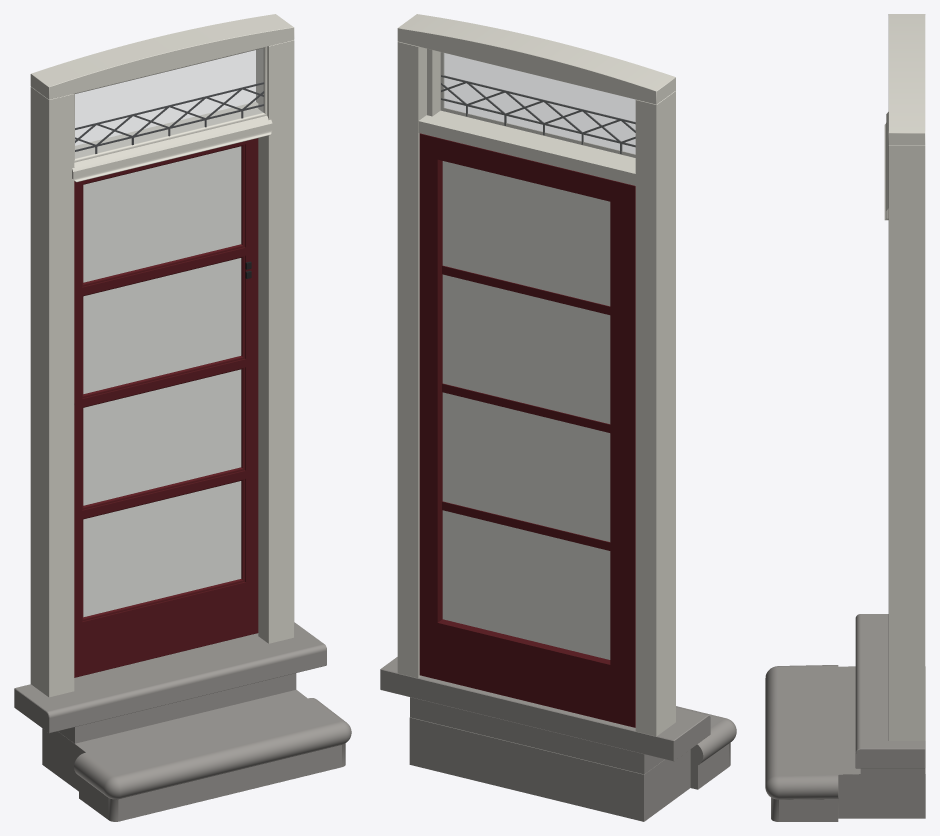
Rendered from door_T2.glb.
3 renders of one model, left to right at view 1: azimuth 30°, elevation 25°; view 2: azimuth 150°, elevation 25°; view 3: azimuth 270°, elevation 25°, orthographic. The views are drawn at different scales.
Visible parts, largest first — view 1: frame_jamb_L, leaf_frame, stone_tread, frame_jamb_R, net_light4, net_light2, net_light3, net_light1, glass_light4, glass_light2, glass_light1, glass_light3 (+11 smaller); view 2: leaf_frame, frame_jamb_L, net_light2, net_light1, net_light3, net_light4, frame_jamb_R, stone_tread, glass_fanlight, frame_head, stone_threshold, frame_transom (+3 smaller); view 3: frame_jamb_R, stone_tread, stone_threshold, frame_head, frame_transom, stone_riser.
Boxes of the visible parts, x1,y1,x2,y2 form: frame_jamb_L: [30, 87, 74, 697]; leaf_frame: [74, 138, 258, 677]; stone_tread: [42, 689, 351, 821]; frame_jamb_R: [256, 40, 294, 643]; net_light4: [83, 146, 241, 282]; net_light2: [83, 369, 241, 505]; net_light3: [83, 258, 241, 393]; net_light1: [83, 481, 241, 616]; glass_light4: [83, 146, 240, 282]; glass_light2: [83, 369, 240, 505]; glass_light1: [83, 481, 240, 616]; glass_light3: [83, 258, 240, 393]; leaf_frame: [419, 133, 635, 727]; frame_jamb_L: [635, 91, 675, 736]; net_light2: [442, 392, 610, 541]; net_light1: [442, 510, 610, 659]; net_light3: [442, 274, 610, 423]; net_light4: [442, 161, 610, 306]; frame_jamb_R: [397, 41, 440, 678]; stone_tread: [409, 706, 736, 821]; glass_fanlight: [441, 52, 635, 157]; frame_head: [397, 14, 675, 104]; stone_threshold: [380, 657, 710, 761]; frame_transom: [418, 110, 635, 185]; frame_jamb_R: [888, 145, 925, 740]; stone_tread: [765, 665, 925, 821]; stone_threshold: [855, 614, 925, 768]; frame_head: [888, 14, 925, 145]; frame_transom: [884, 112, 888, 220]; stone_riser: [860, 768, 924, 773].
Bounding box in the file's own units: 1.11 × 2.66 × 0.5543.
